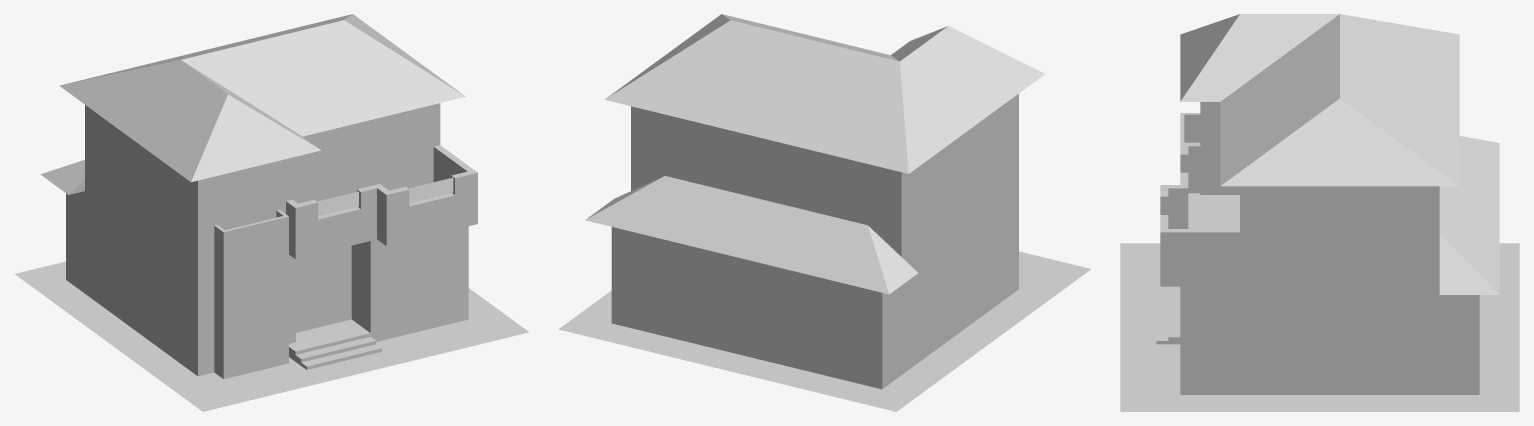
The model's file is home1sample.glb.
3 renders of one model, left to right at view 1: azimuth 30°, elevation 25°; view 2: azimuth 150°, elevation 25°; view 3: azimuth 270°, elevation 25°, orthographic. The views are drawn at different scales.
Parts seen in each view (by area): view 1: home1; view 2: home1; view 3: home1.
Part boxes in pixels (box(x1,y1,x2,y2)): home1: box(15, 14, 528, 411); home1: box(558, 14, 1091, 411); home1: box(1120, 14, 1519, 411).
Size of the model in its own units: 10 by 7.5 by 10.
2 materials, 1 textured.
